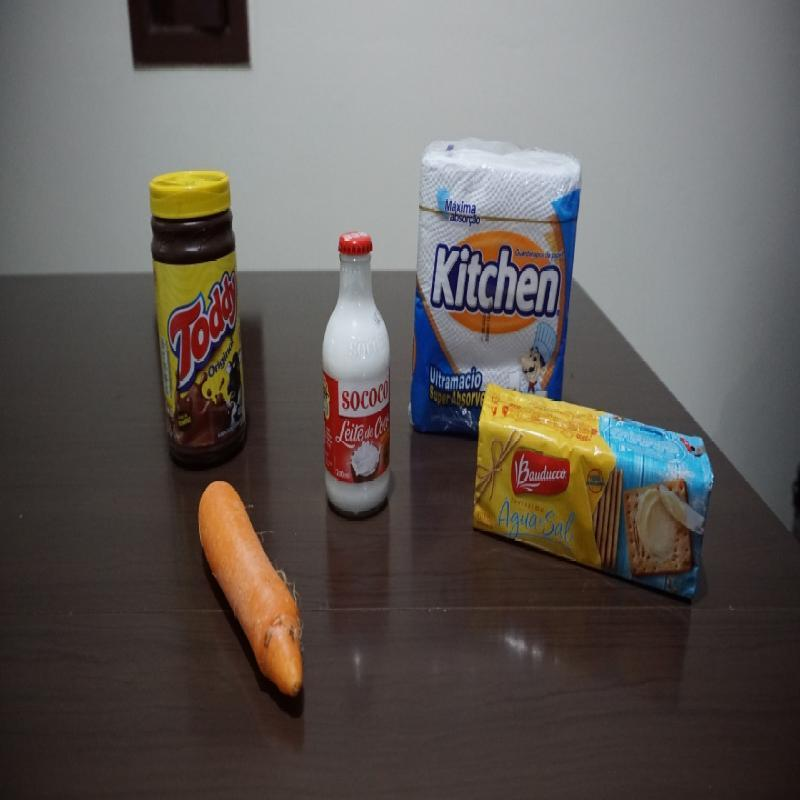Carrot: (197, 476, 306, 706)
Chocolate Powder: (148, 168, 248, 474)
Coconut Milk: (321, 229, 392, 519)
Cracker: (472, 380, 713, 604)
Napkin: (407, 136, 584, 448)
